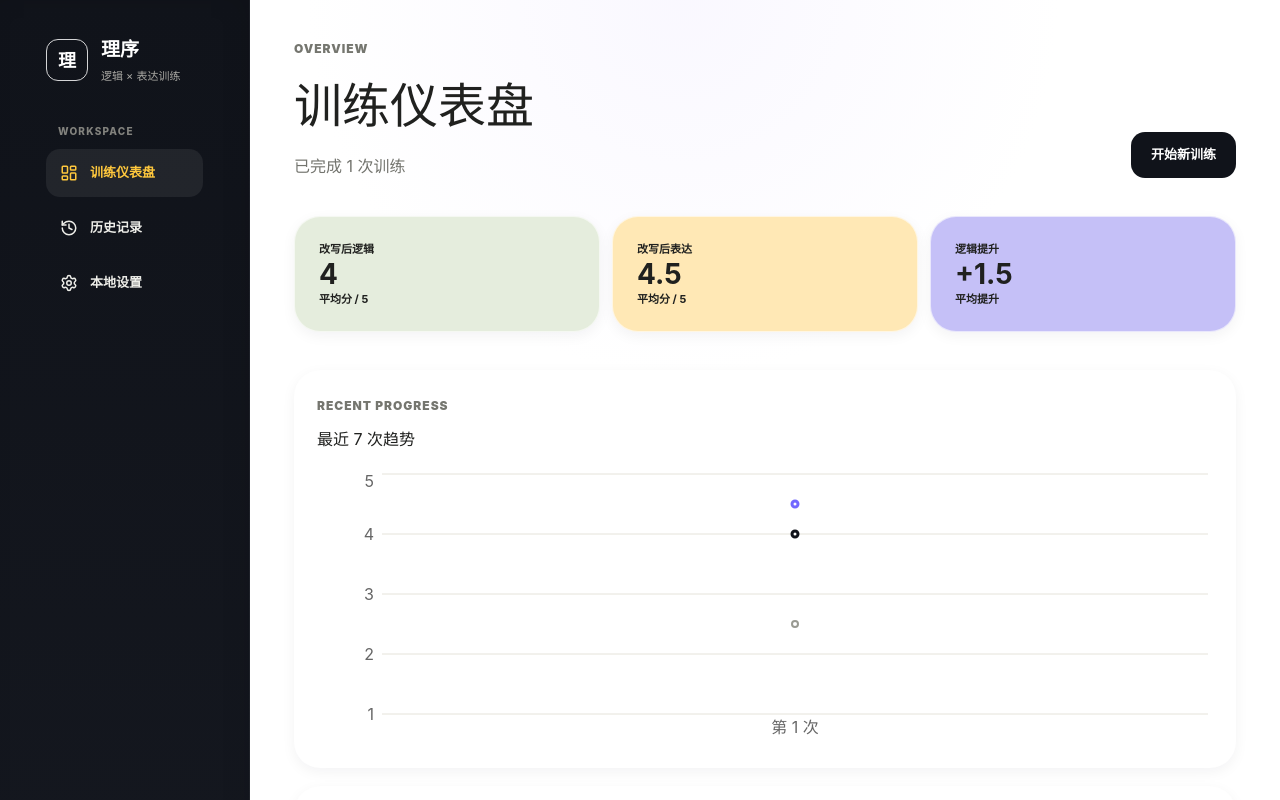
Test: DashboardView › shows every persisted field in the complete record review
Expected: the text "已完成 1 次训练" is shown, [294,156,406,176]
Click the button "历史记录" at [124, 228], box [46,204,203,252]
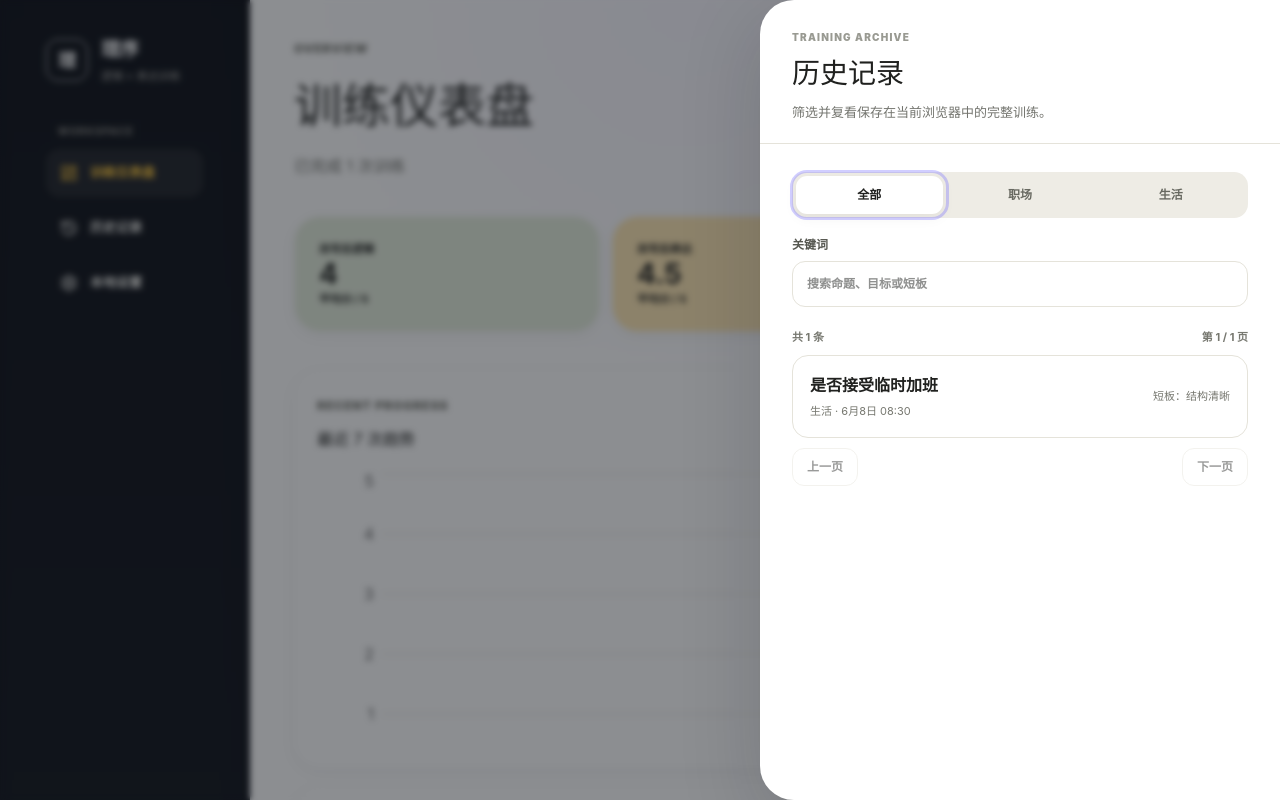
Click the button "是否接受临时加班" at [874, 385], box [792,355,1248,438]
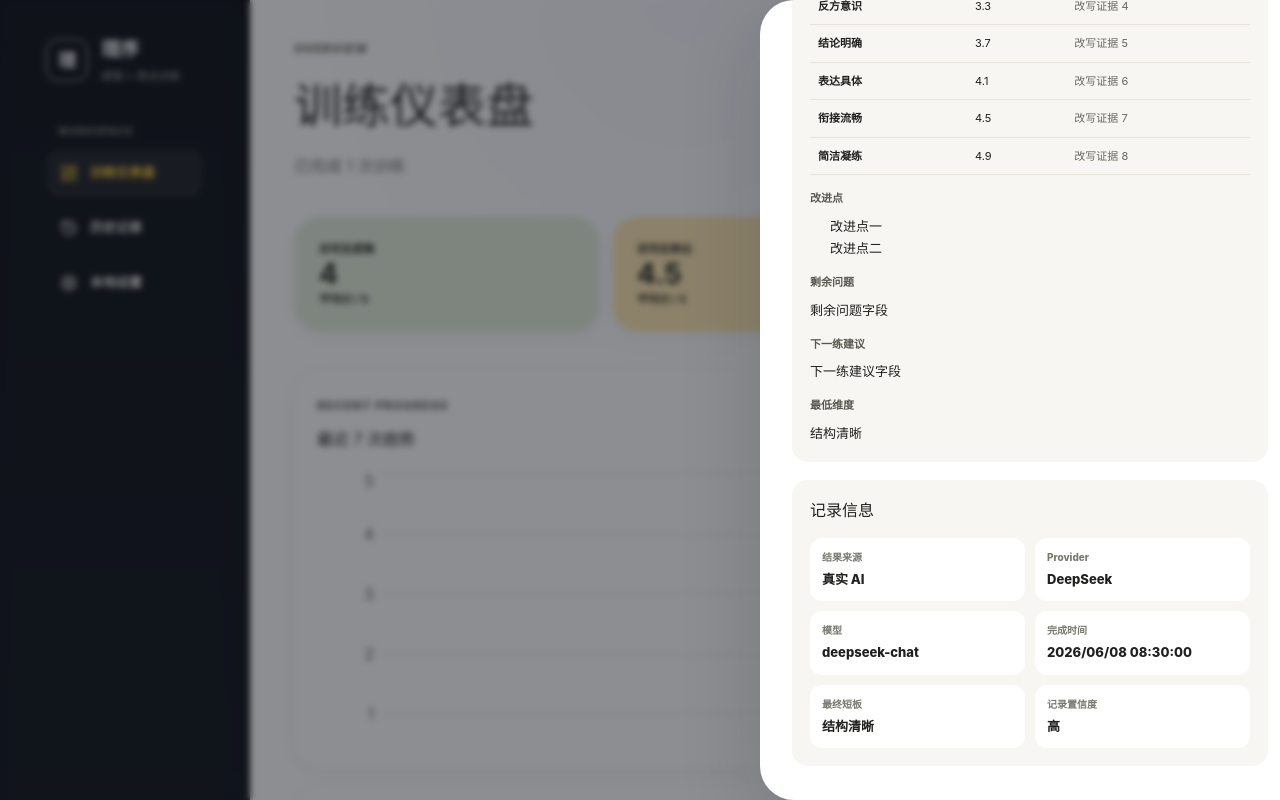
Expected: the text "改写证据 8" is shown, [1066,137,1250,175]
Expected: the list item "改进点一" is shown, [830,218,882,234]
Expected: the list item "改进点二" is shown, [830,240,882,256]
